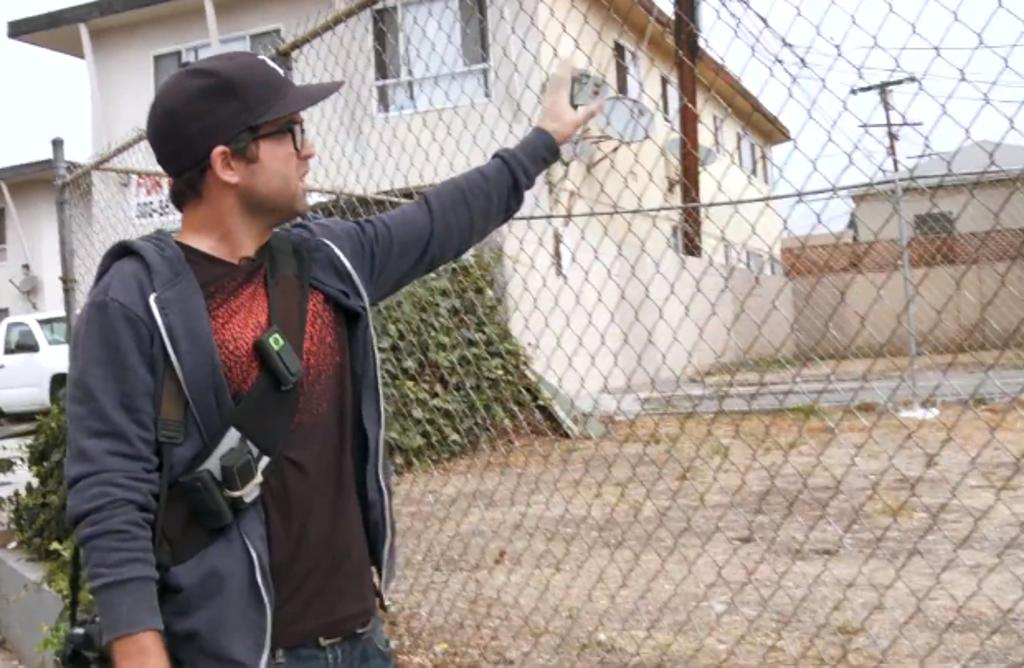face: (238, 90, 320, 216)
